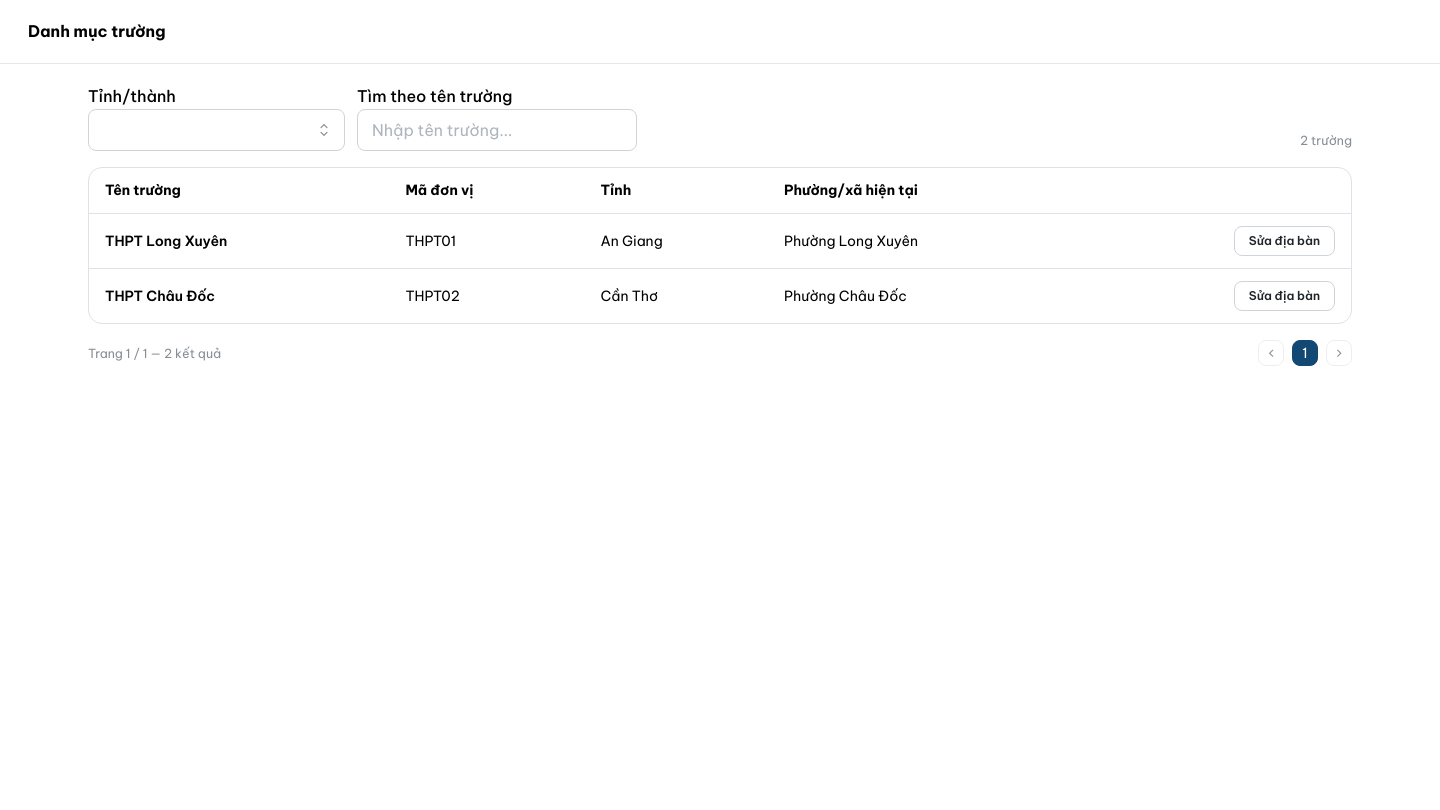
Scenario: Admin — Danh mục trường › mở modal sửa, chọn lại Tỉnh + Phường/xã rồi bấm Lưu → gọi đúng PATCH, hiện thông báo thành công
expect the text "THPT Long Xuyên" is shown: met, box [89,214,390,269]
Click the button "Sửa địa bàn" in the row of "THPT Long Xuyên". click: [1284, 242]
box: [1234,226,1335,256]
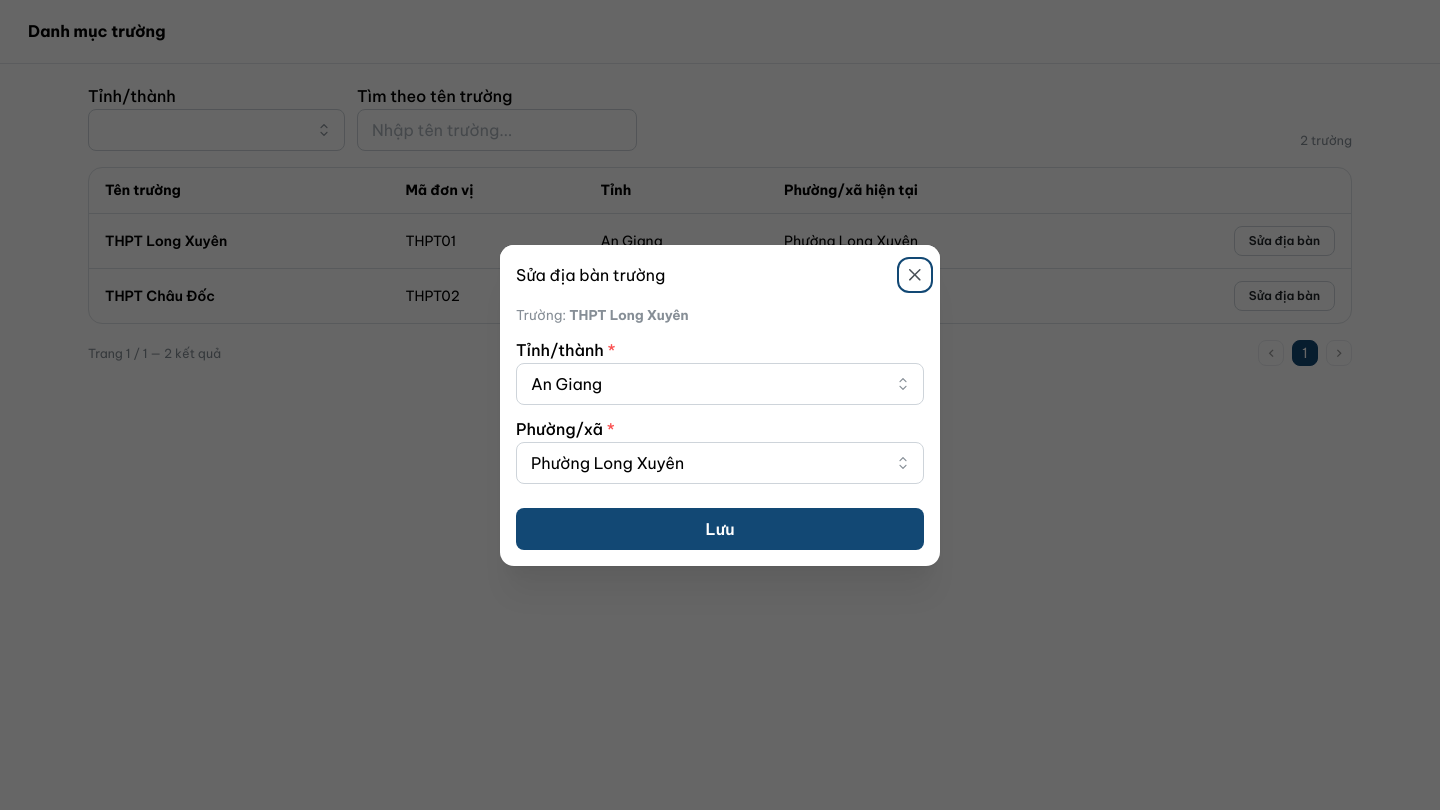
expect the text "THPT Long Xuyên" is shown: met, box [569,306,689,324]
Click the field labelled "Tỉnh/thành *". click: [720, 384]
box: [516,362,924,404]
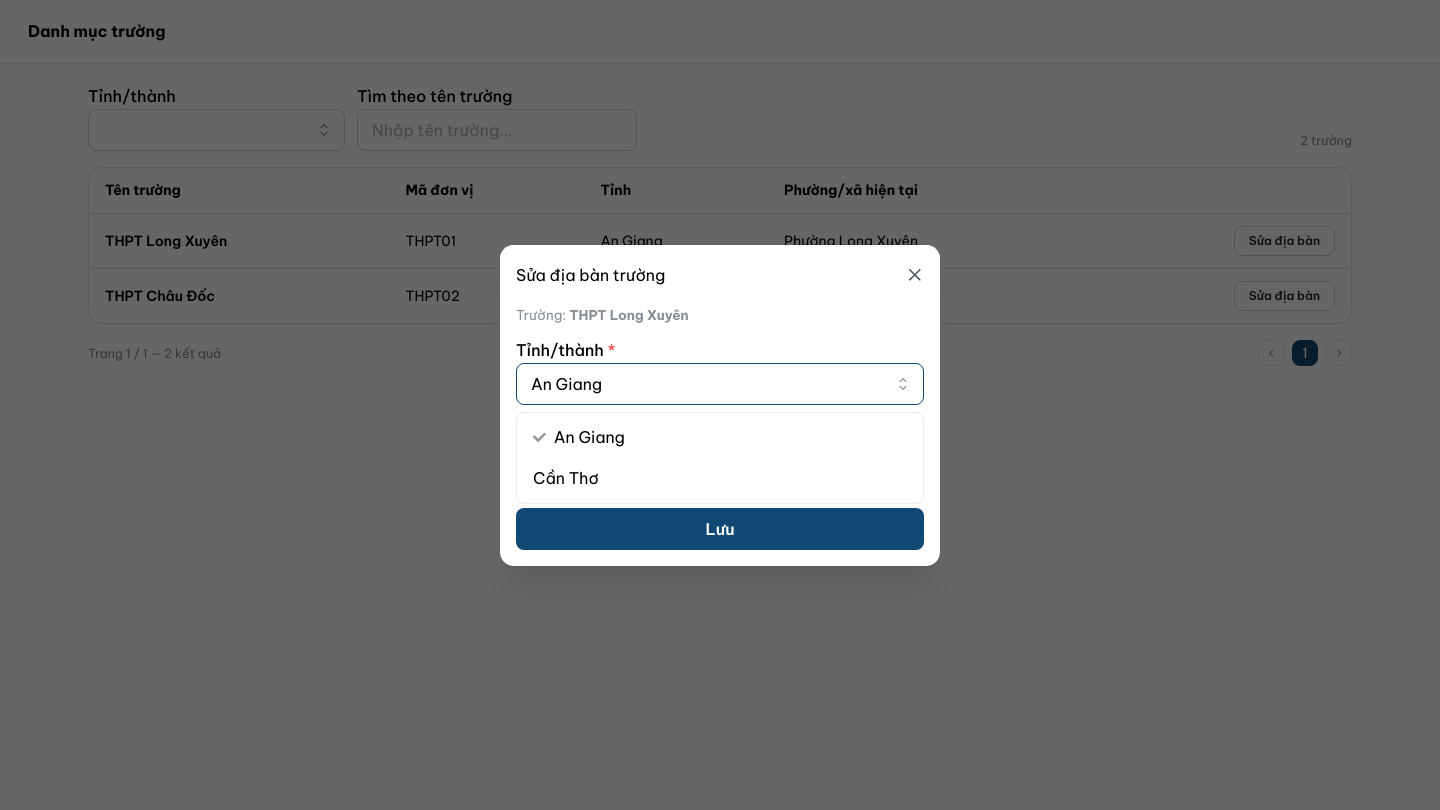
Click the option "Cần Thơ". click: [566, 478]
box: [533,468,599,488]
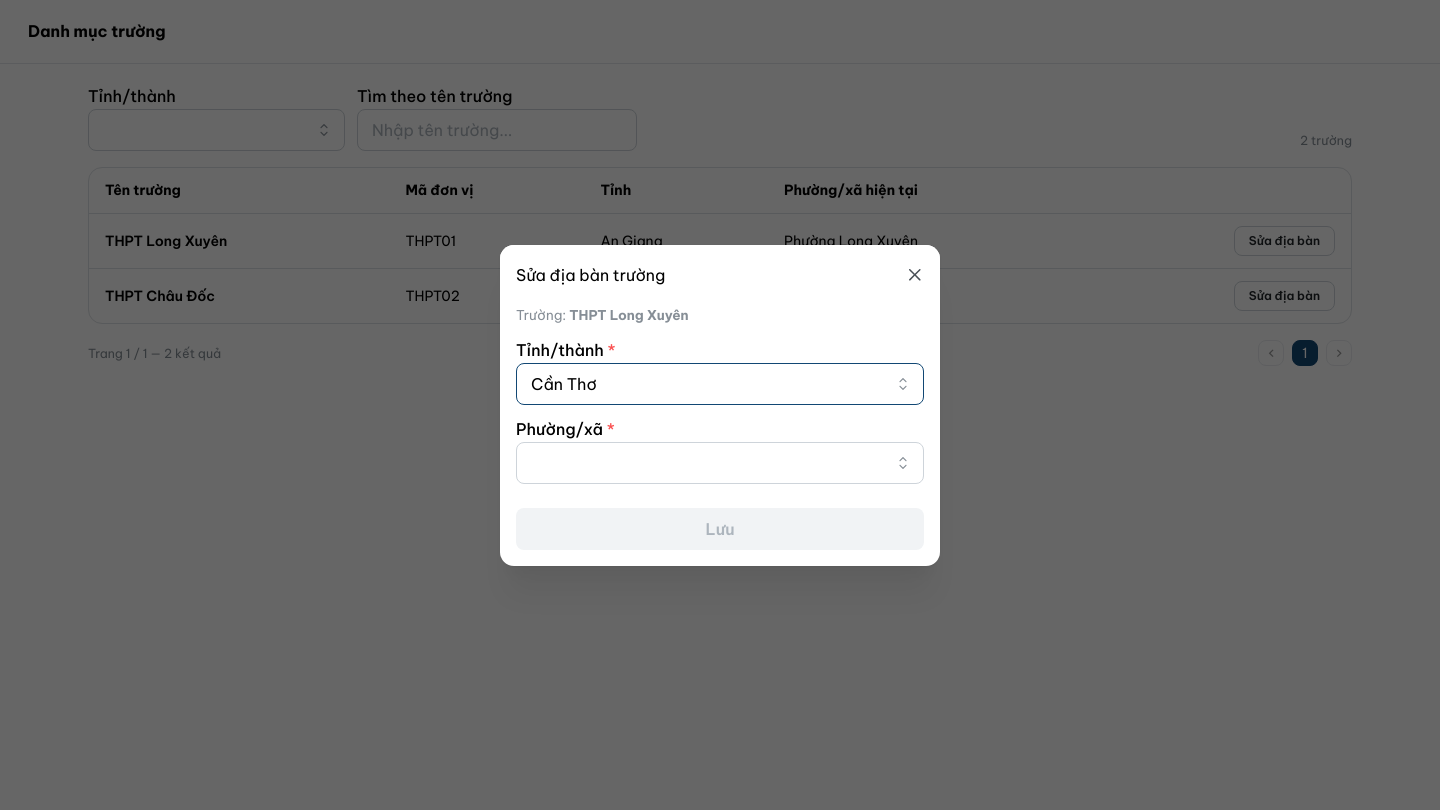
Click the field labelled "Phường/xã *". click: [720, 462]
box: [516,441,924,483]
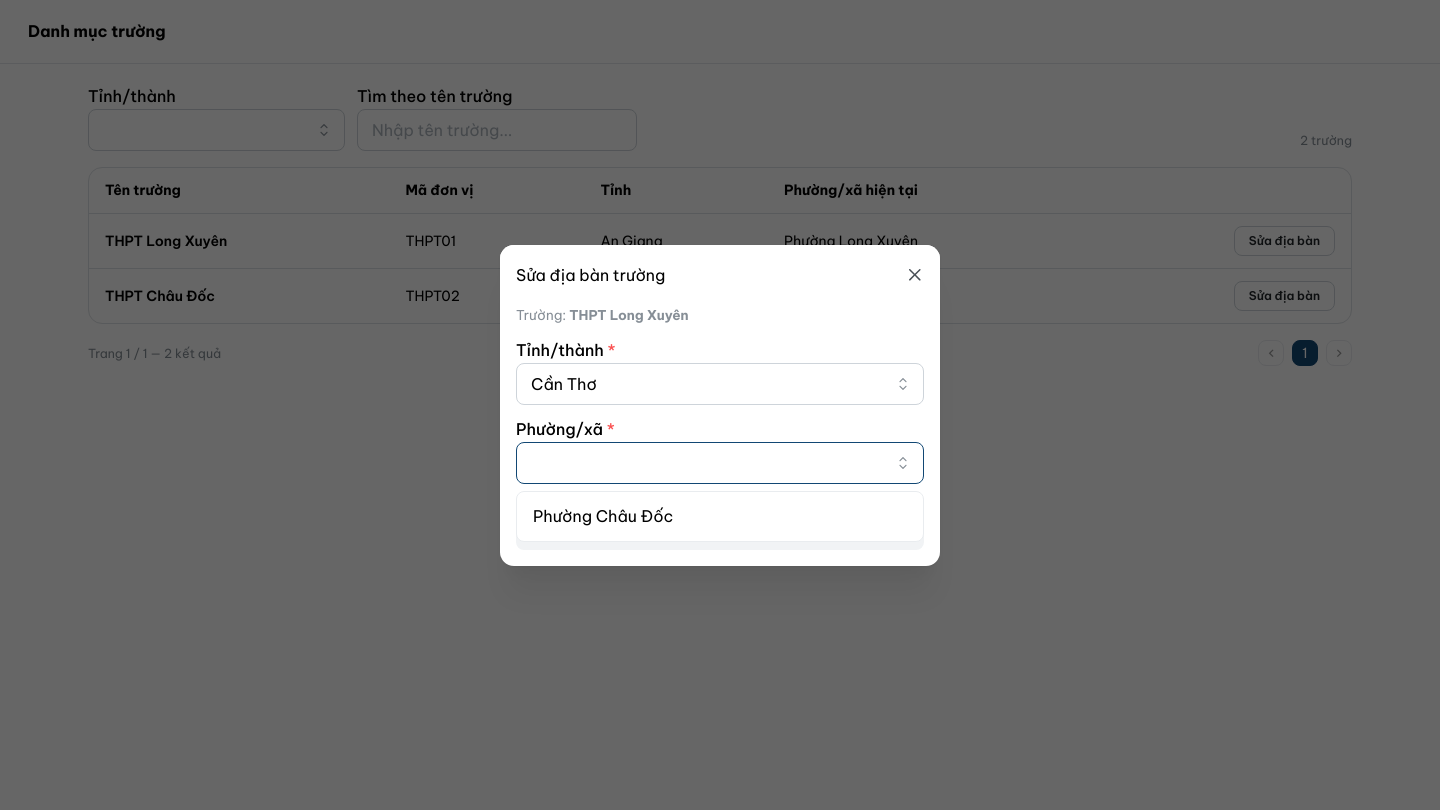
Click the option "Phường Châu Đốc". click: [603, 516]
box: [533,506,673,526]
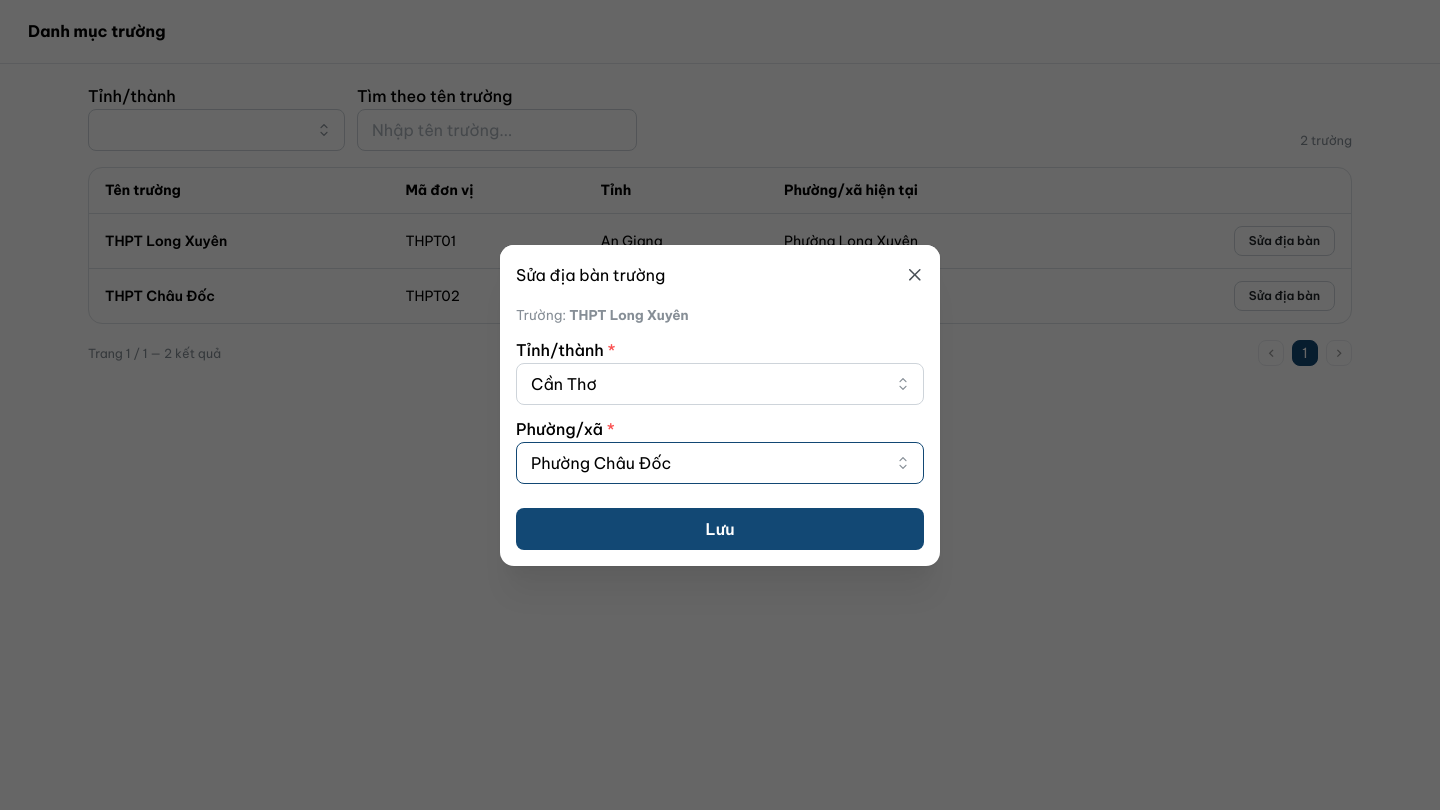
Click the button "Lưu". click: [720, 528]
box: [516,507,924,549]
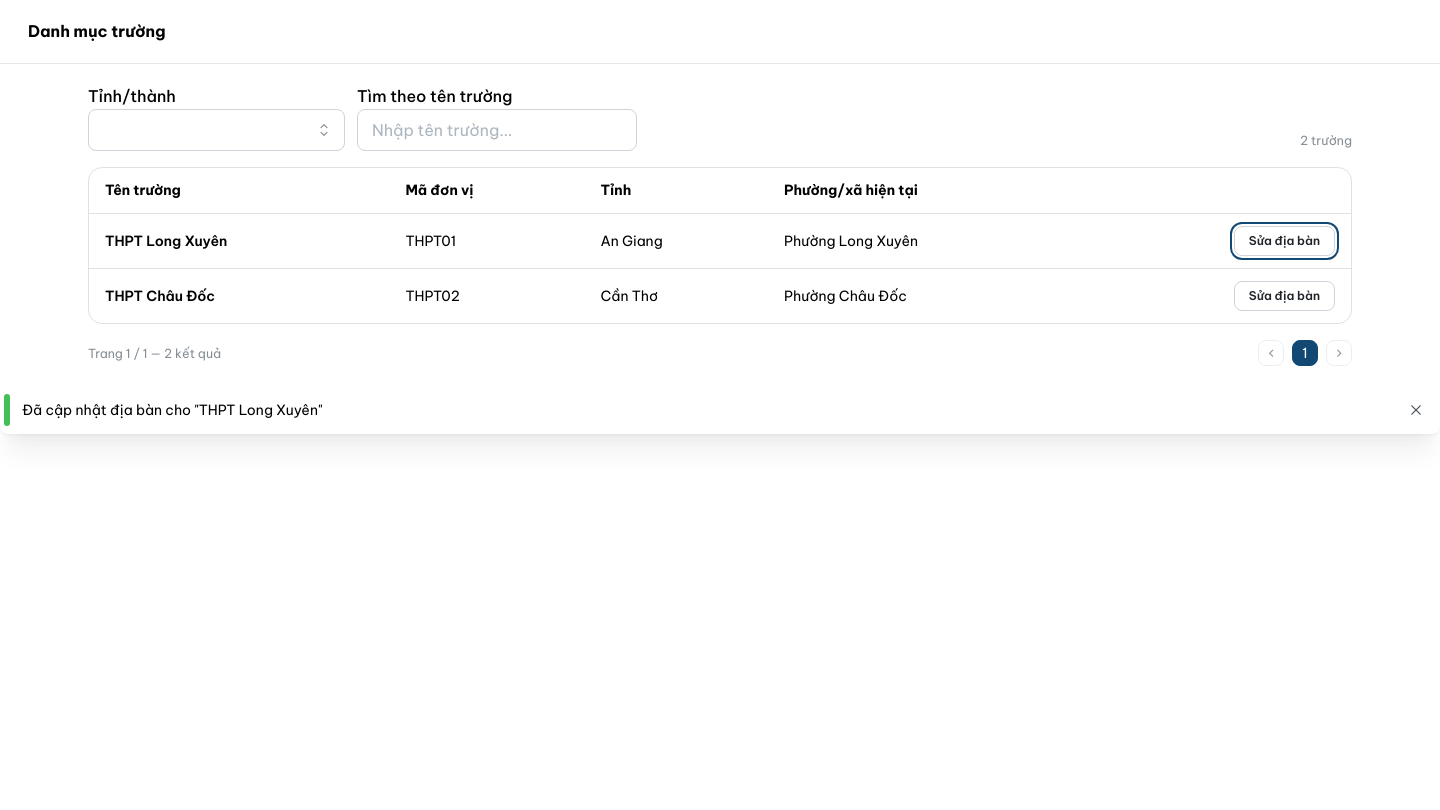
expect the text "Đã cập nhật địa bàn cho \"THPT Long Xuyên\"" is shown: met, box [22,401,322,419]
